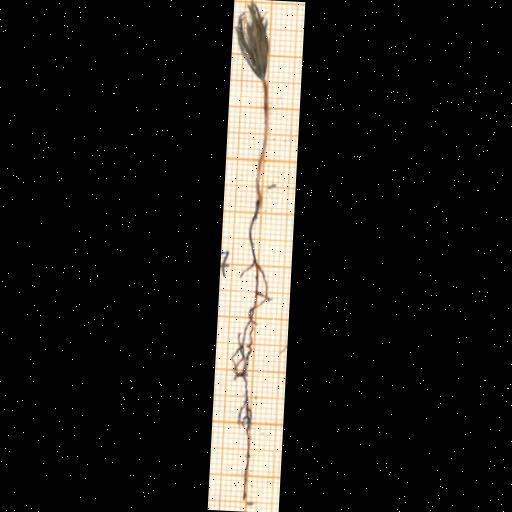flowerPinus: (234, 2, 268, 81)
rootPinus: (229, 189, 267, 499)
stemPinus: (257, 81, 268, 194)
